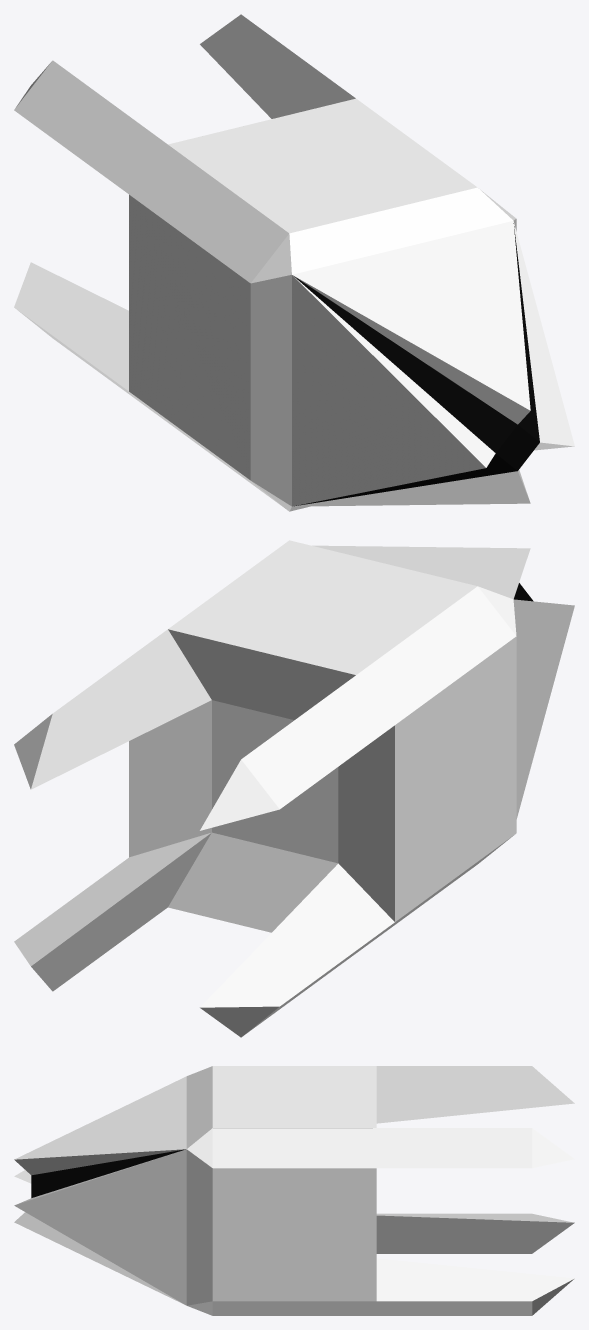
The model's file is Turret_Ship_1.fbx.
3 views of the same model, one above another, from view 1: azimuth 30°, elevation 25°; view 2: azimuth 150°, elevation 25°; view 3: azimuth 270°, elevation 25° (orthographic). The views are drawn at different scales.
Parts seen in each view (by area): view 1: Turret_Ship_1; view 2: Turret_Ship_1; view 3: Turret_Ship_1.
Part boxes in pixels (x1,y1,x2,y2): Turret_Ship_1: (14, 14, 574, 511); Turret_Ship_1: (14, 540, 574, 1037); Turret_Ship_1: (14, 1066, 574, 1315).
Size of the model in its own units: 240 by 240 by 650.
3 materials, 3 textured.
